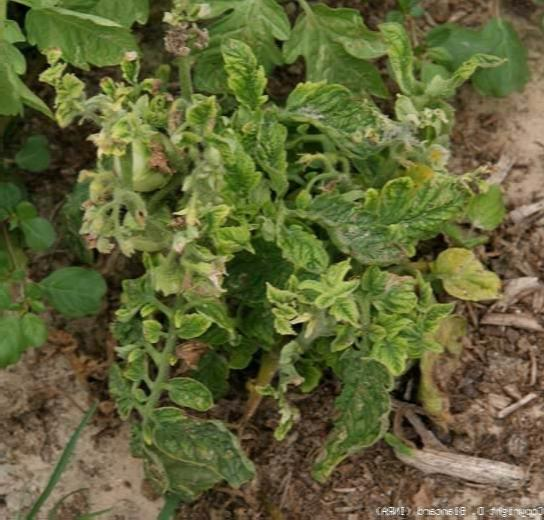Tomato leaf yellow virus: (353, 177, 481, 253), (281, 84, 377, 168), (322, 385, 393, 480), (208, 145, 266, 218), (269, 224, 331, 276), (221, 41, 261, 118), (157, 375, 219, 423), (363, 331, 411, 383), (200, 233, 254, 262), (168, 315, 214, 344), (133, 315, 162, 345), (331, 296, 357, 329)
